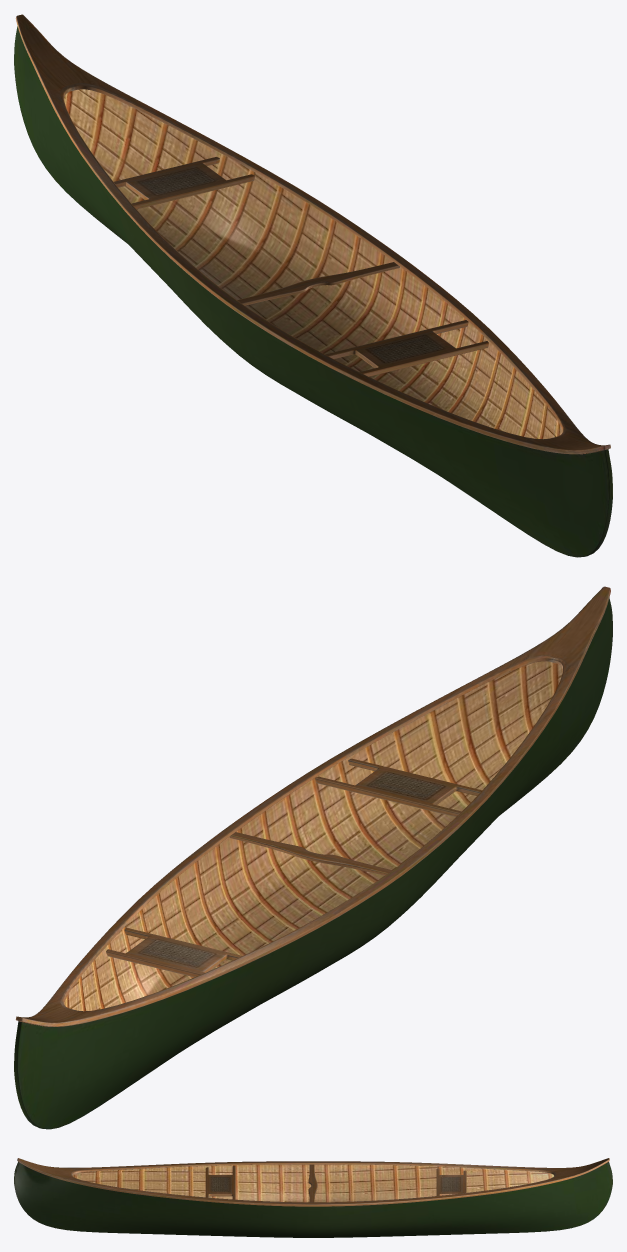
Rendered from canoe.obj.
The picture shows the model from 3 angles, top to bottom: view 1: azimuth 30°, elevation 25°; view 2: azimuth 150°, elevation 25°; view 3: azimuth 270°, elevation 25°; orthographic projection. The views are drawn at different scales.
Visible parts, largest first — view 1: canoe; view 2: canoe; view 3: canoe.
Part boxes in pixels (x1,y1,x2,y2): canoe: [14, 14, 612, 557]; canoe: [14, 586, 612, 1129]; canoe: [14, 1158, 612, 1237].
Bounding box in the file's own units: 0.8612 × 0.7278 × 5.02.
Materials: 1 (1 with a texture image).
